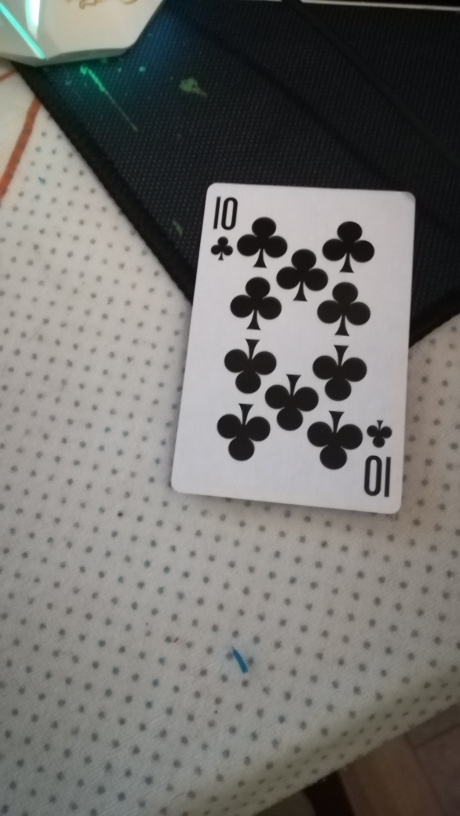mh 10: (166, 181, 415, 515)
